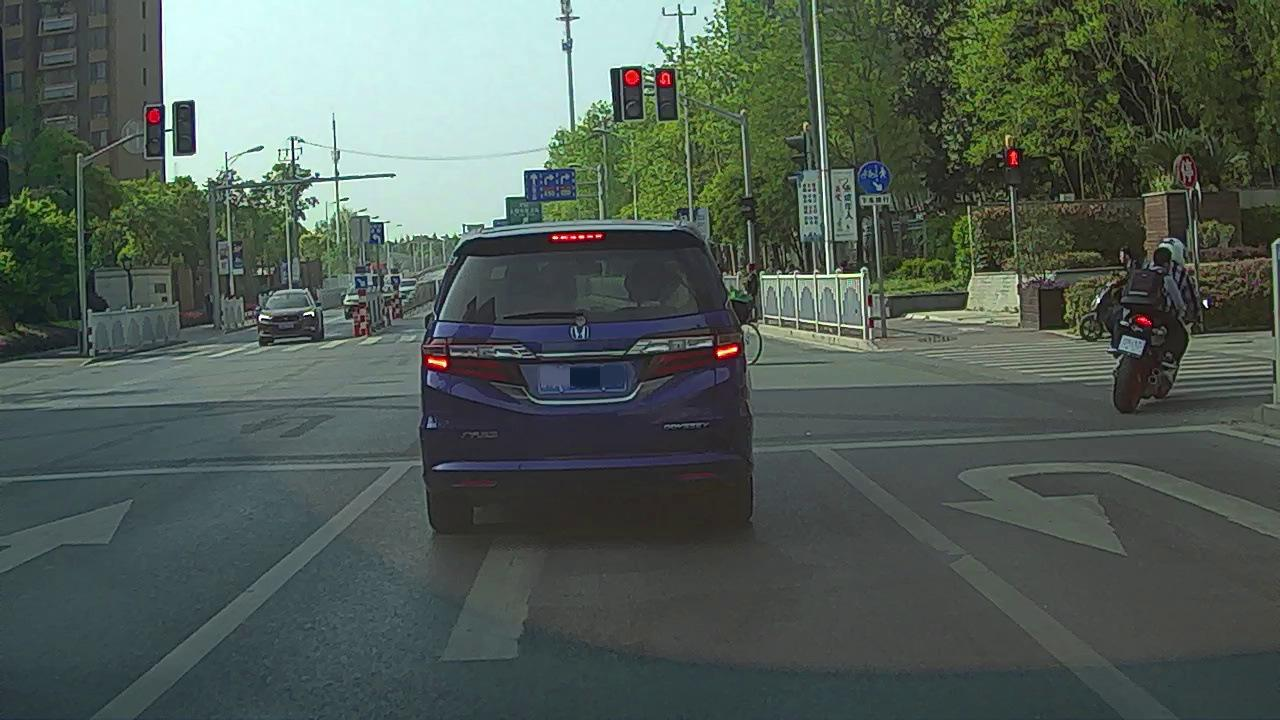traffic_light: (656, 67, 678, 119), (622, 66, 643, 118), (145, 103, 164, 158), (176, 101, 195, 155)
